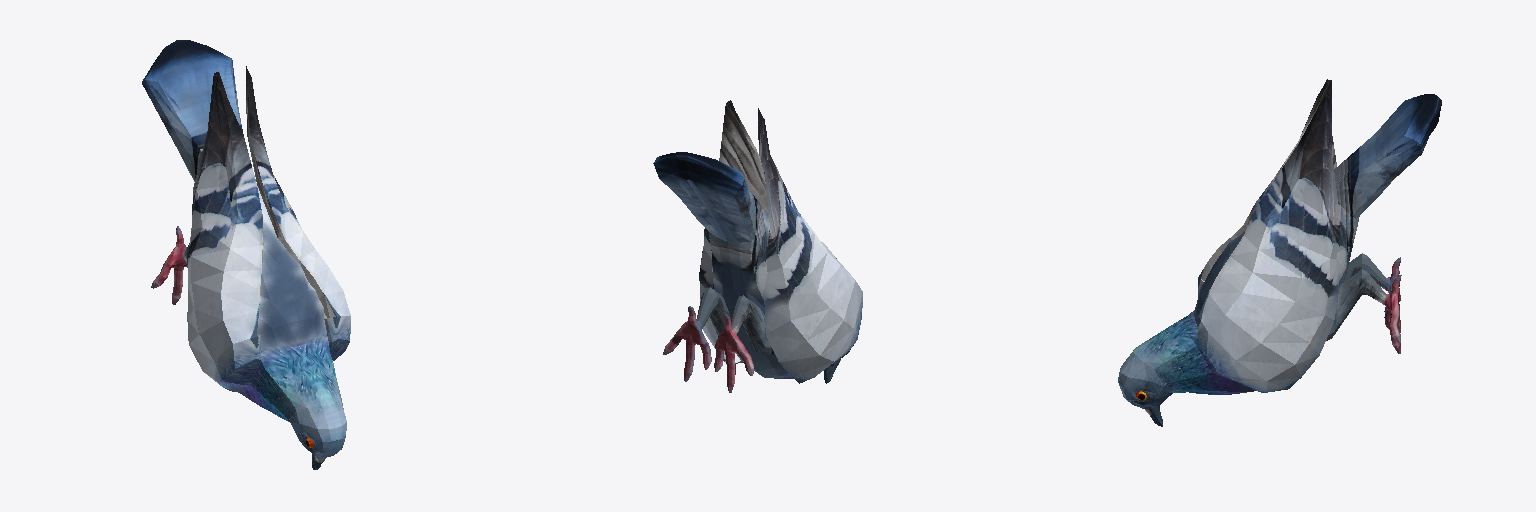
3 renders of one model, left to right at view 1: azimuth 30°, elevation 25°; view 2: azimuth 150°, elevation 25°; view 3: azimuth 270°, elevation 25°, orthographic.
Visible parts, largest first — view 1: 001_Buffer_Layer; view 2: 001_Buffer_Layer; view 3: 001_Buffer_Layer.
Boxes of the visible parts, x1,y1,x2,y2 form: 001_Buffer_Layer: [142, 40, 350, 469]; 001_Buffer_Layer: [653, 100, 862, 392]; 001_Buffer_Layer: [1118, 79, 1441, 426].
Bounding box in the file's own units: 40.71 × 100 × 86.38.
2 materials, 2 textured.